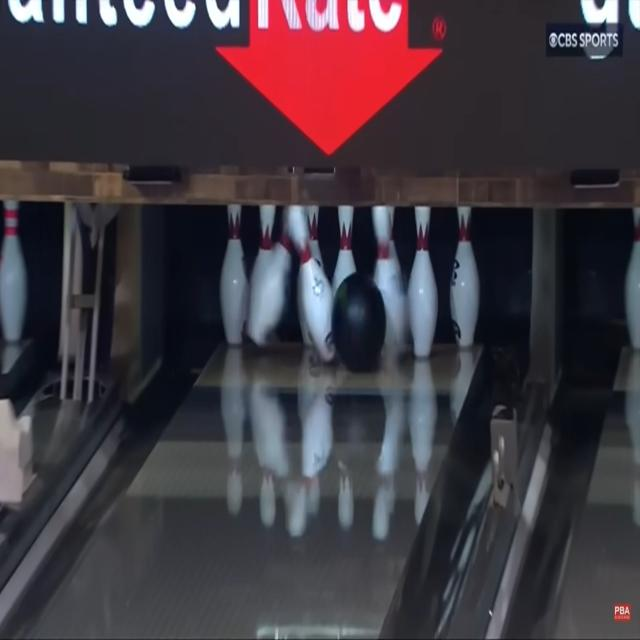alley: (34, 344, 482, 638)
balls: (331, 271, 386, 373)
bottle: (218, 0, 441, 156), (248, 204, 335, 362), (371, 207, 406, 353), (409, 208, 438, 358), (450, 207, 480, 347), (220, 204, 248, 344), (332, 207, 355, 289)
